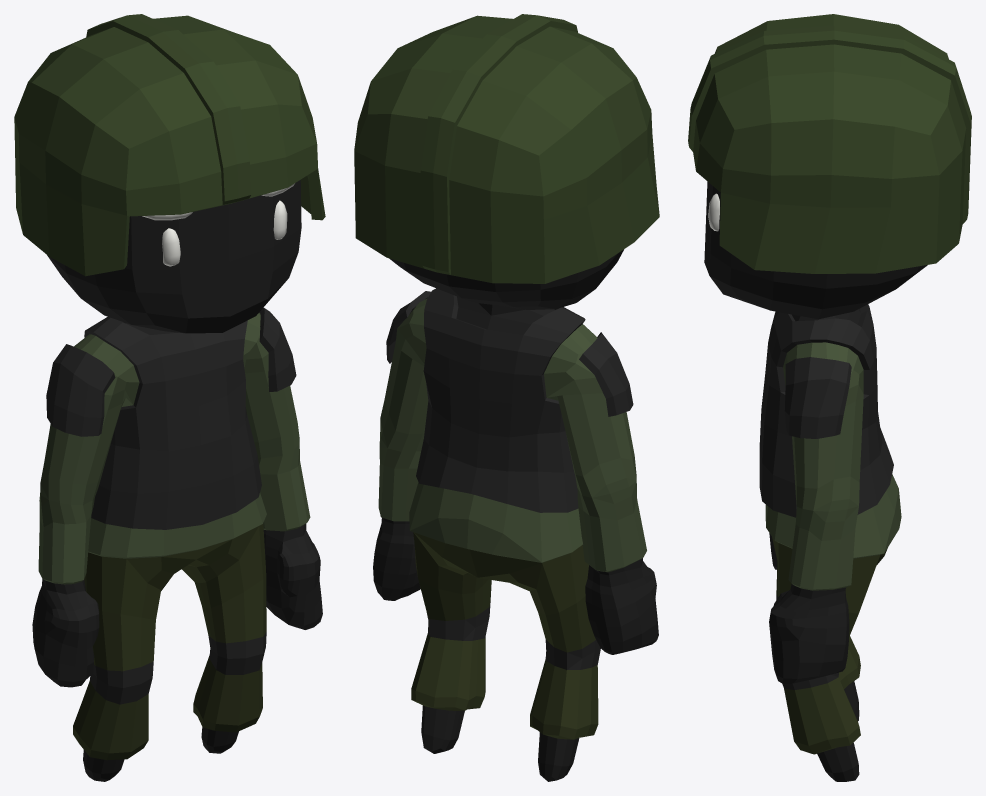
The model's file is soldier-male-ac5da3ae16.glb.
3 renders of one model, left to right at view 1: azimuth 30°, elevation 25°; view 2: azimuth 150°, elevation 25°; view 3: azimuth 270°, elevation 25°, orthographic. The views are drawn at different scales.
Visible parts, largest first — view 1: Soldier_Male.obj; view 2: Soldier_Male.obj; view 3: Soldier_Male.obj.
Part boxes in pixels (x1,y1,x2,y2): Soldier_Male.obj: (14,14,325,781); Soldier_Male.obj: (354,14,659,781); Soldier_Male.obj: (688,14,971,781).
Size of the model in its own units: 1.27 by 3.23 by 1.15.
